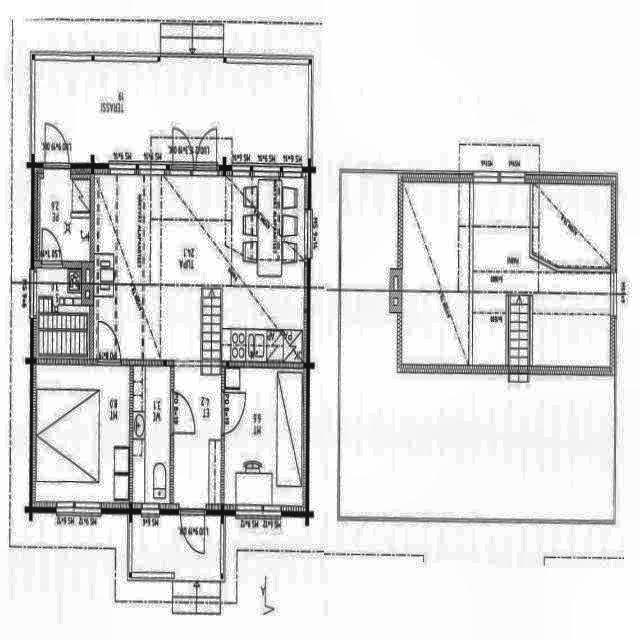room: (36, 365, 130, 502), (225, 368, 303, 505), (174, 366, 221, 504), (133, 367, 170, 503), (36, 268, 90, 359), (40, 180, 90, 260)
